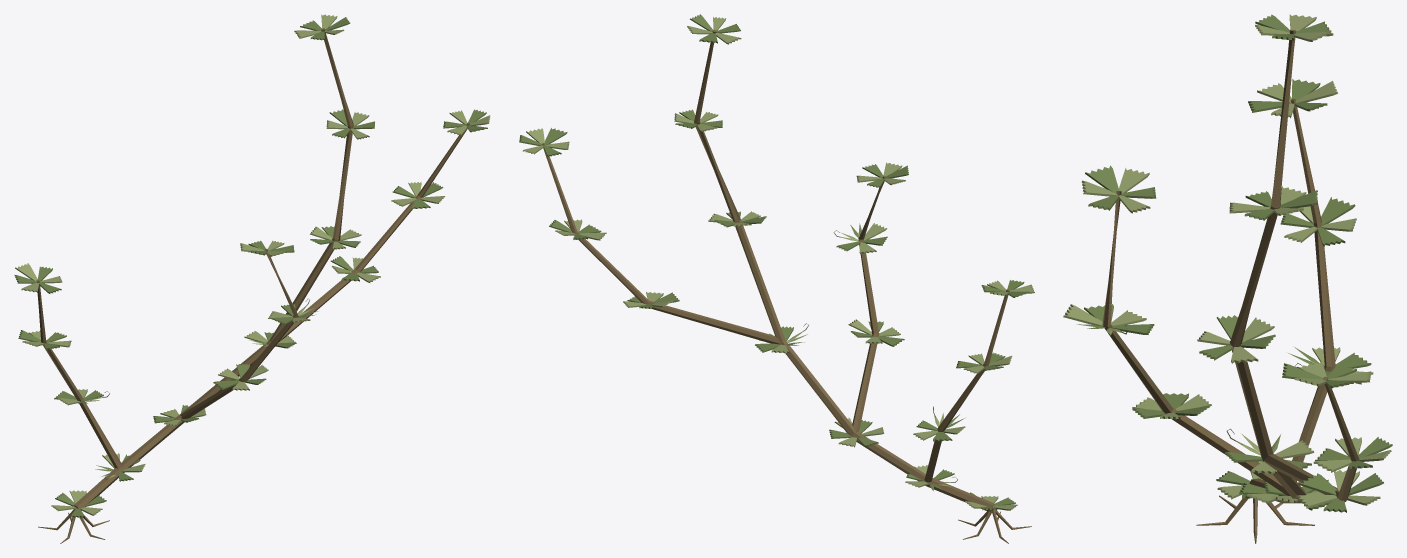
Rendered from sphenophyllum.glb.
3 renders of one model, left to right at view 1: azimuth 30°, elevation 25°; view 2: azimuth 150°, elevation 25°; view 3: azimuth 270°, elevation 25°, orthographic. The views are drawn at different scales.
Visible parts, largest first — view 1: open-scrambling-wedge-whorls; view 2: open-scrambling-wedge-whorls; view 3: open-scrambling-wedge-whorls.
Boxes of the visible parts, x1,y1,x2,y2 form: open-scrambling-wedge-whorls: (14, 14, 490, 543); open-scrambling-wedge-whorls: (519, 14, 1034, 543); open-scrambling-wedge-whorls: (1063, 14, 1392, 543).
Size of the model in its own units: 0.361 by 0.3124 by 0.1326.
